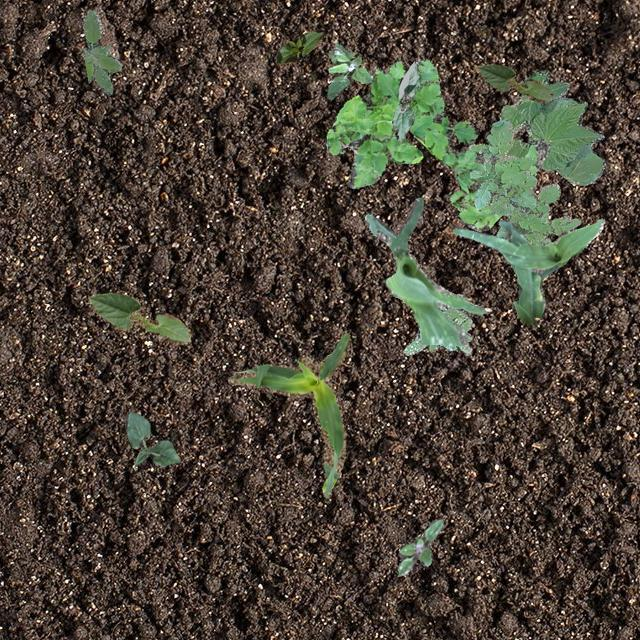crop: (228, 332, 348, 496), (364, 196, 486, 344), (452, 218, 604, 324), (499, 70, 604, 184), (86, 292, 192, 344), (124, 410, 180, 466), (476, 62, 552, 101), (392, 60, 420, 140), (274, 28, 322, 62)
weed: (326, 58, 548, 230), (468, 120, 580, 243), (402, 294, 472, 354), (82, 10, 120, 94), (396, 518, 442, 576), (327, 42, 372, 98)
